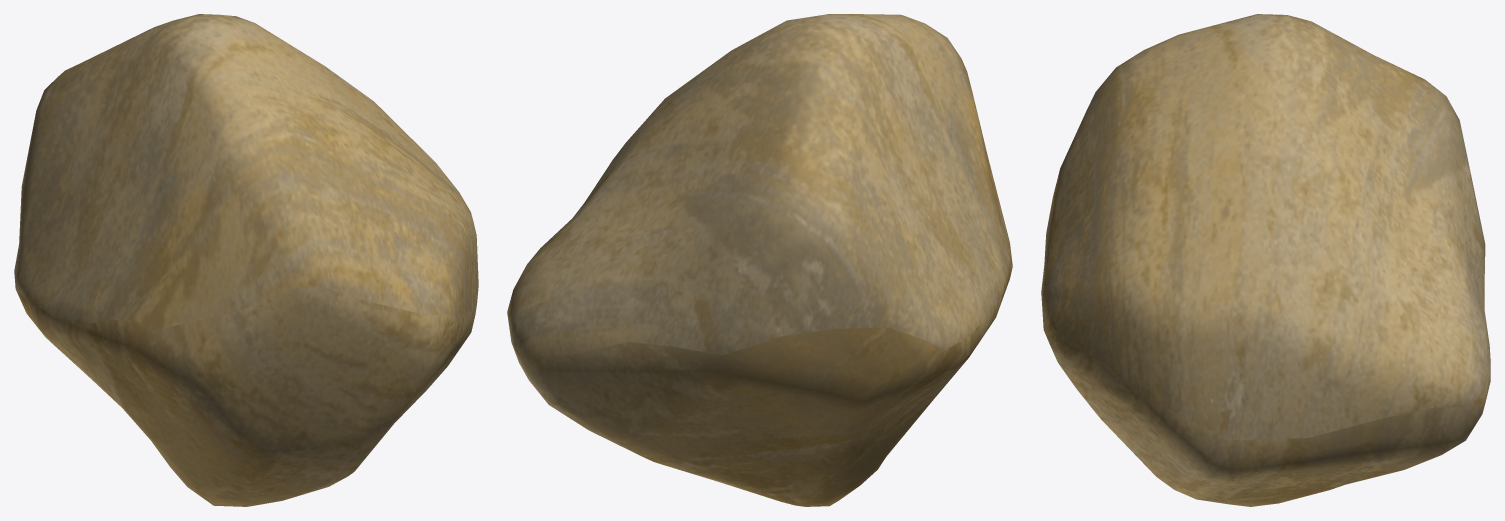
The model's file is SM_stone_01.fbx.
3 views of the same model, side by side, from view 1: azimuth 30°, elevation 25°; view 2: azimuth 150°, elevation 25°; view 3: azimuth 270°, elevation 25° (orthographic). The views are drawn at different scales.
Parts seen in each view (by area): view 1: SM_stone_01_LOD0; view 2: SM_stone_01_LOD0; view 3: SM_stone_01_LOD0.
Boxes of the visible parts, left/top/right/bottom form: SM_stone_01_LOD0: left=14, top=14, right=478, bottom=506; SM_stone_01_LOD0: left=507, top=14, right=1012, bottom=506; SM_stone_01_LOD0: left=1041, top=14, right=1490, bottom=506.
Size of the model in its own units: 239 by 246 by 284.
1 material, 1 textured.
